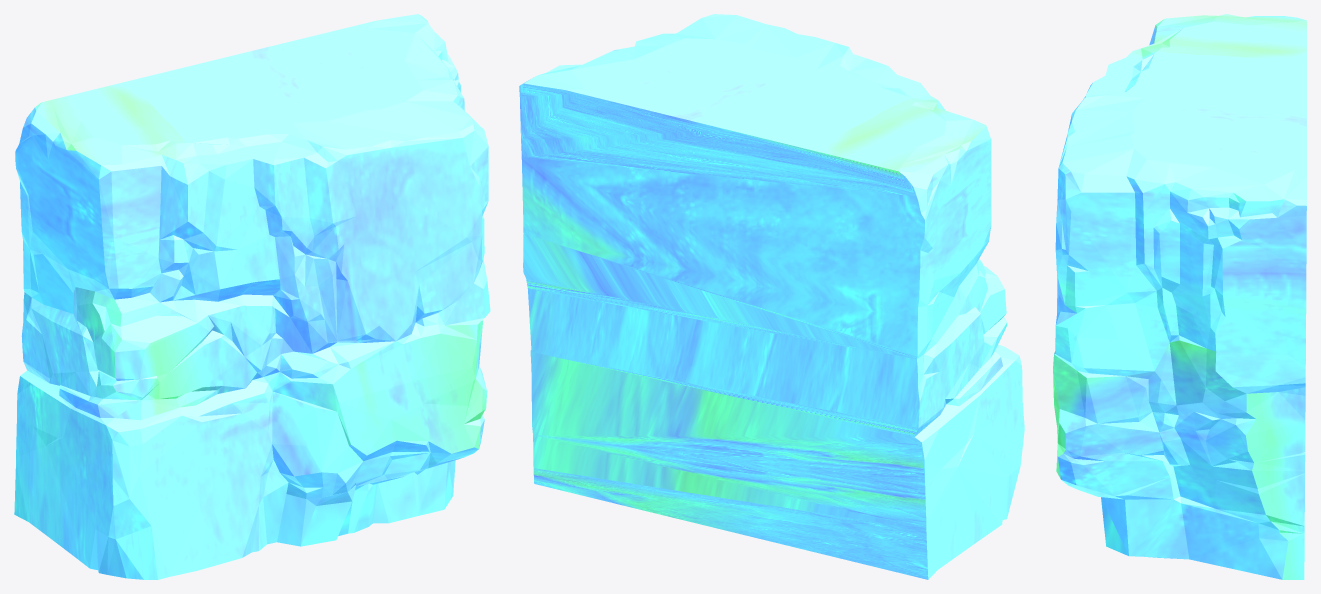
The model's file is CliffRockB.fbx.
The picture shows the model from 3 angles, left to right: view 1: azimuth 30°, elevation 25°; view 2: azimuth 150°, elevation 25°; view 3: azimuth 270°, elevation 25°; orthographic projection. The views are drawn at different scales.
Visible parts, largest first — view 1: Dn_HL_Cliff_Rock_A_Edge_B.mo; view 2: Dn_HL_Cliff_Rock_A_Edge_B.mo; view 3: Dn_HL_Cliff_Rock_A_Edge_B.mo.
Part boxes in pixels (bbox=[...]): Dn_HL_Cliff_Rock_A_Edge_B.mo: bbox=[14, 14, 490, 579]; Dn_HL_Cliff_Rock_A_Edge_B.mo: bbox=[519, 14, 1024, 579]; Dn_HL_Cliff_Rock_A_Edge_B.mo: bbox=[1053, 14, 1306, 579].
Bounding box in the file's own units: 1453 × 1371 × 814.
